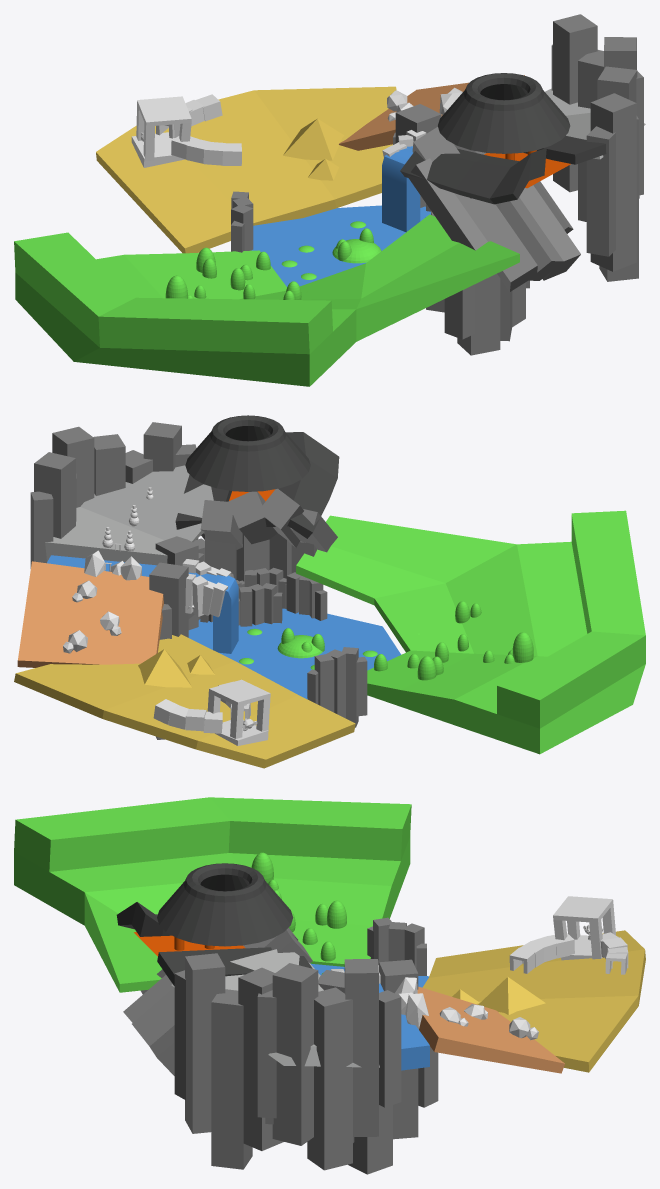
File: block.fbx
The picture shows the model from 3 angles, top to bottom: view 1: azimuth 30°, elevation 25°; view 2: azimuth 150°, elevation 25°; view 3: azimuth 270°, elevation 25°; orthographic projection. The views are drawn at different scales.
Visible parts, largest first — view 1: block, Cube.002, Cube.021, Cube.024, Torus, Cube.025, Cube.001, Cube.004, Cube.010, Cube.005, Cube.037, Cube.026 (+7 smaller); view 2: block, Cube.002, Cube.026, Cube.003, Torus, Cube.001, Cube.025, Cube.021, Cube.024, Cube.004, Cube.027, Cube.011 (+10 smaller); view 3: block, Cube.025, Cube.024, Cube.002, Torus, Cube.026, Cube.011, Cube.021, Cube.004, Cube.027, Cube.037, Cube.003 (+4 smaller).
Boxes of the visible parts, bbox=[...] form: block: bbox=[14, 214, 519, 386]; Cube.002: bbox=[96, 86, 396, 253]; Cube.021: bbox=[407, 127, 580, 291]; Cube.024: bbox=[586, 66, 639, 281]; Torus: bbox=[438, 73, 570, 153]; Cube.025: bbox=[551, 14, 643, 221]; Cube.001: bbox=[251, 205, 430, 286]; Cube.004: bbox=[400, 136, 606, 204]; Cube.010: bbox=[444, 198, 529, 355]; Cube.005: bbox=[382, 146, 420, 232]; Cube.037: bbox=[136, 96, 191, 160]; Cube.026: bbox=[339, 75, 524, 150]; block: bbox=[296, 510, 645, 754]; Cube.002: bbox=[14, 634, 355, 768]; Cube.026: bbox=[17, 561, 163, 667]; Cube.003: bbox=[45, 465, 213, 565]; Torus: bbox=[185, 415, 310, 491]; Cube.001: bbox=[188, 608, 401, 699]; Cube.025: bbox=[30, 426, 94, 568]; Cube.021: bbox=[200, 488, 337, 552]; Cube.024: bbox=[93, 422, 198, 539]; Cube.004: bbox=[175, 432, 339, 538]; Cube.027: bbox=[307, 647, 367, 727]; Cube.011: bbox=[149, 536, 204, 739]; block: bbox=[14, 797, 411, 992]; Cube.025: bbox=[257, 959, 401, 1170]; Cube.024: bbox=[174, 953, 283, 1169]; Cube.002: bbox=[422, 930, 645, 1072]; Torus: bbox=[157, 863, 293, 946]; Cube.026: bbox=[417, 986, 564, 1073]; Cube.011: bbox=[318, 959, 438, 1174]; Cube.021: bbox=[123, 927, 312, 1075]; Cube.004: bbox=[116, 902, 312, 985]; Cube.027: bbox=[367, 917, 426, 975]; Cube.037: bbox=[553, 896, 615, 959]; Cube.003: bbox=[171, 949, 379, 1067].
Size of the model in its own units: 1234 by 547 by 1115.
